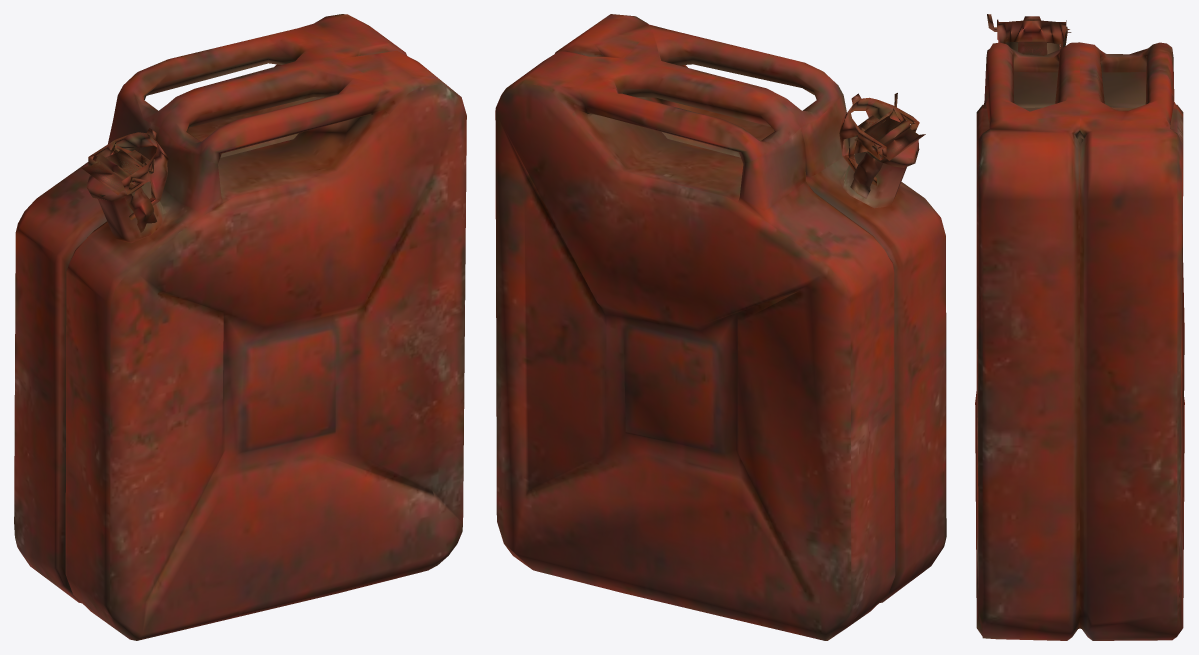
The model's file is jerrycan.glb.
3 views of the same model, side by side, from view 1: azimuth 30°, elevation 25°; view 2: azimuth 150°, elevation 25°; view 3: azimuth 270°, elevation 25° (orthographic). The views are drawn at different scales.
Parts seen in each view (by area): view 1: metal_jerrycan; view 2: metal_jerrycan; view 3: metal_jerrycan.
Boxes of the visible parts, left/top/right/bottom form: metal_jerrycan: left=14, top=14, right=466, bottom=640; metal_jerrycan: left=495, top=14, right=946, bottom=640; metal_jerrycan: left=975, top=14, right=1184, bottom=640.
Bounding box in the file's own units: 0.3489 × 0.4548 × 0.1717.
1 material, 1 textured.
